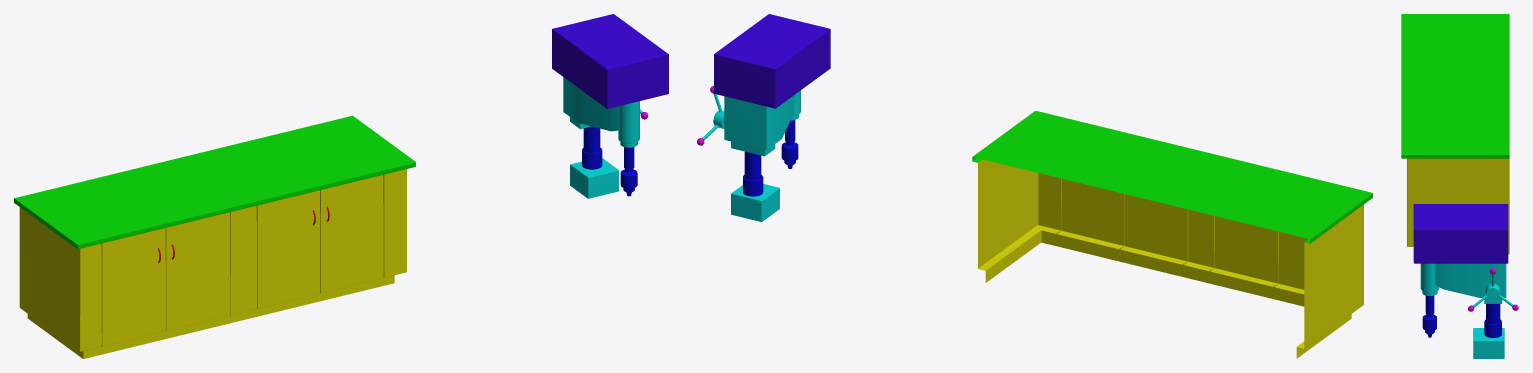
File: SpindleDrillPress_Strong_Hannah.fbx
3 renders of one model, left to right at view 1: azimuth 30°, elevation 25°; view 2: azimuth 150°, elevation 25°; view 3: azimuth 270°, elevation 25°, orthographic. The views are drawn at different scales.
Visible parts, largest first — view 1: counter, SpindleDrill; view 2: counter, SpindleDrill; view 3: counter, SpindleDrill.
Part boxes in pixels (box(x1,y1,x2,y2)): counter: box(14, 115, 415, 358); SpindleDrill: box(552, 14, 668, 198); counter: box(972, 111, 1372, 358); SpindleDrill: box(697, 14, 830, 221); counter: box(1401, 14, 1509, 254); SpindleDrill: box(1413, 204, 1518, 358).
Bounding box in the file's own units: 4.62 × 1.17 × 0.901.
